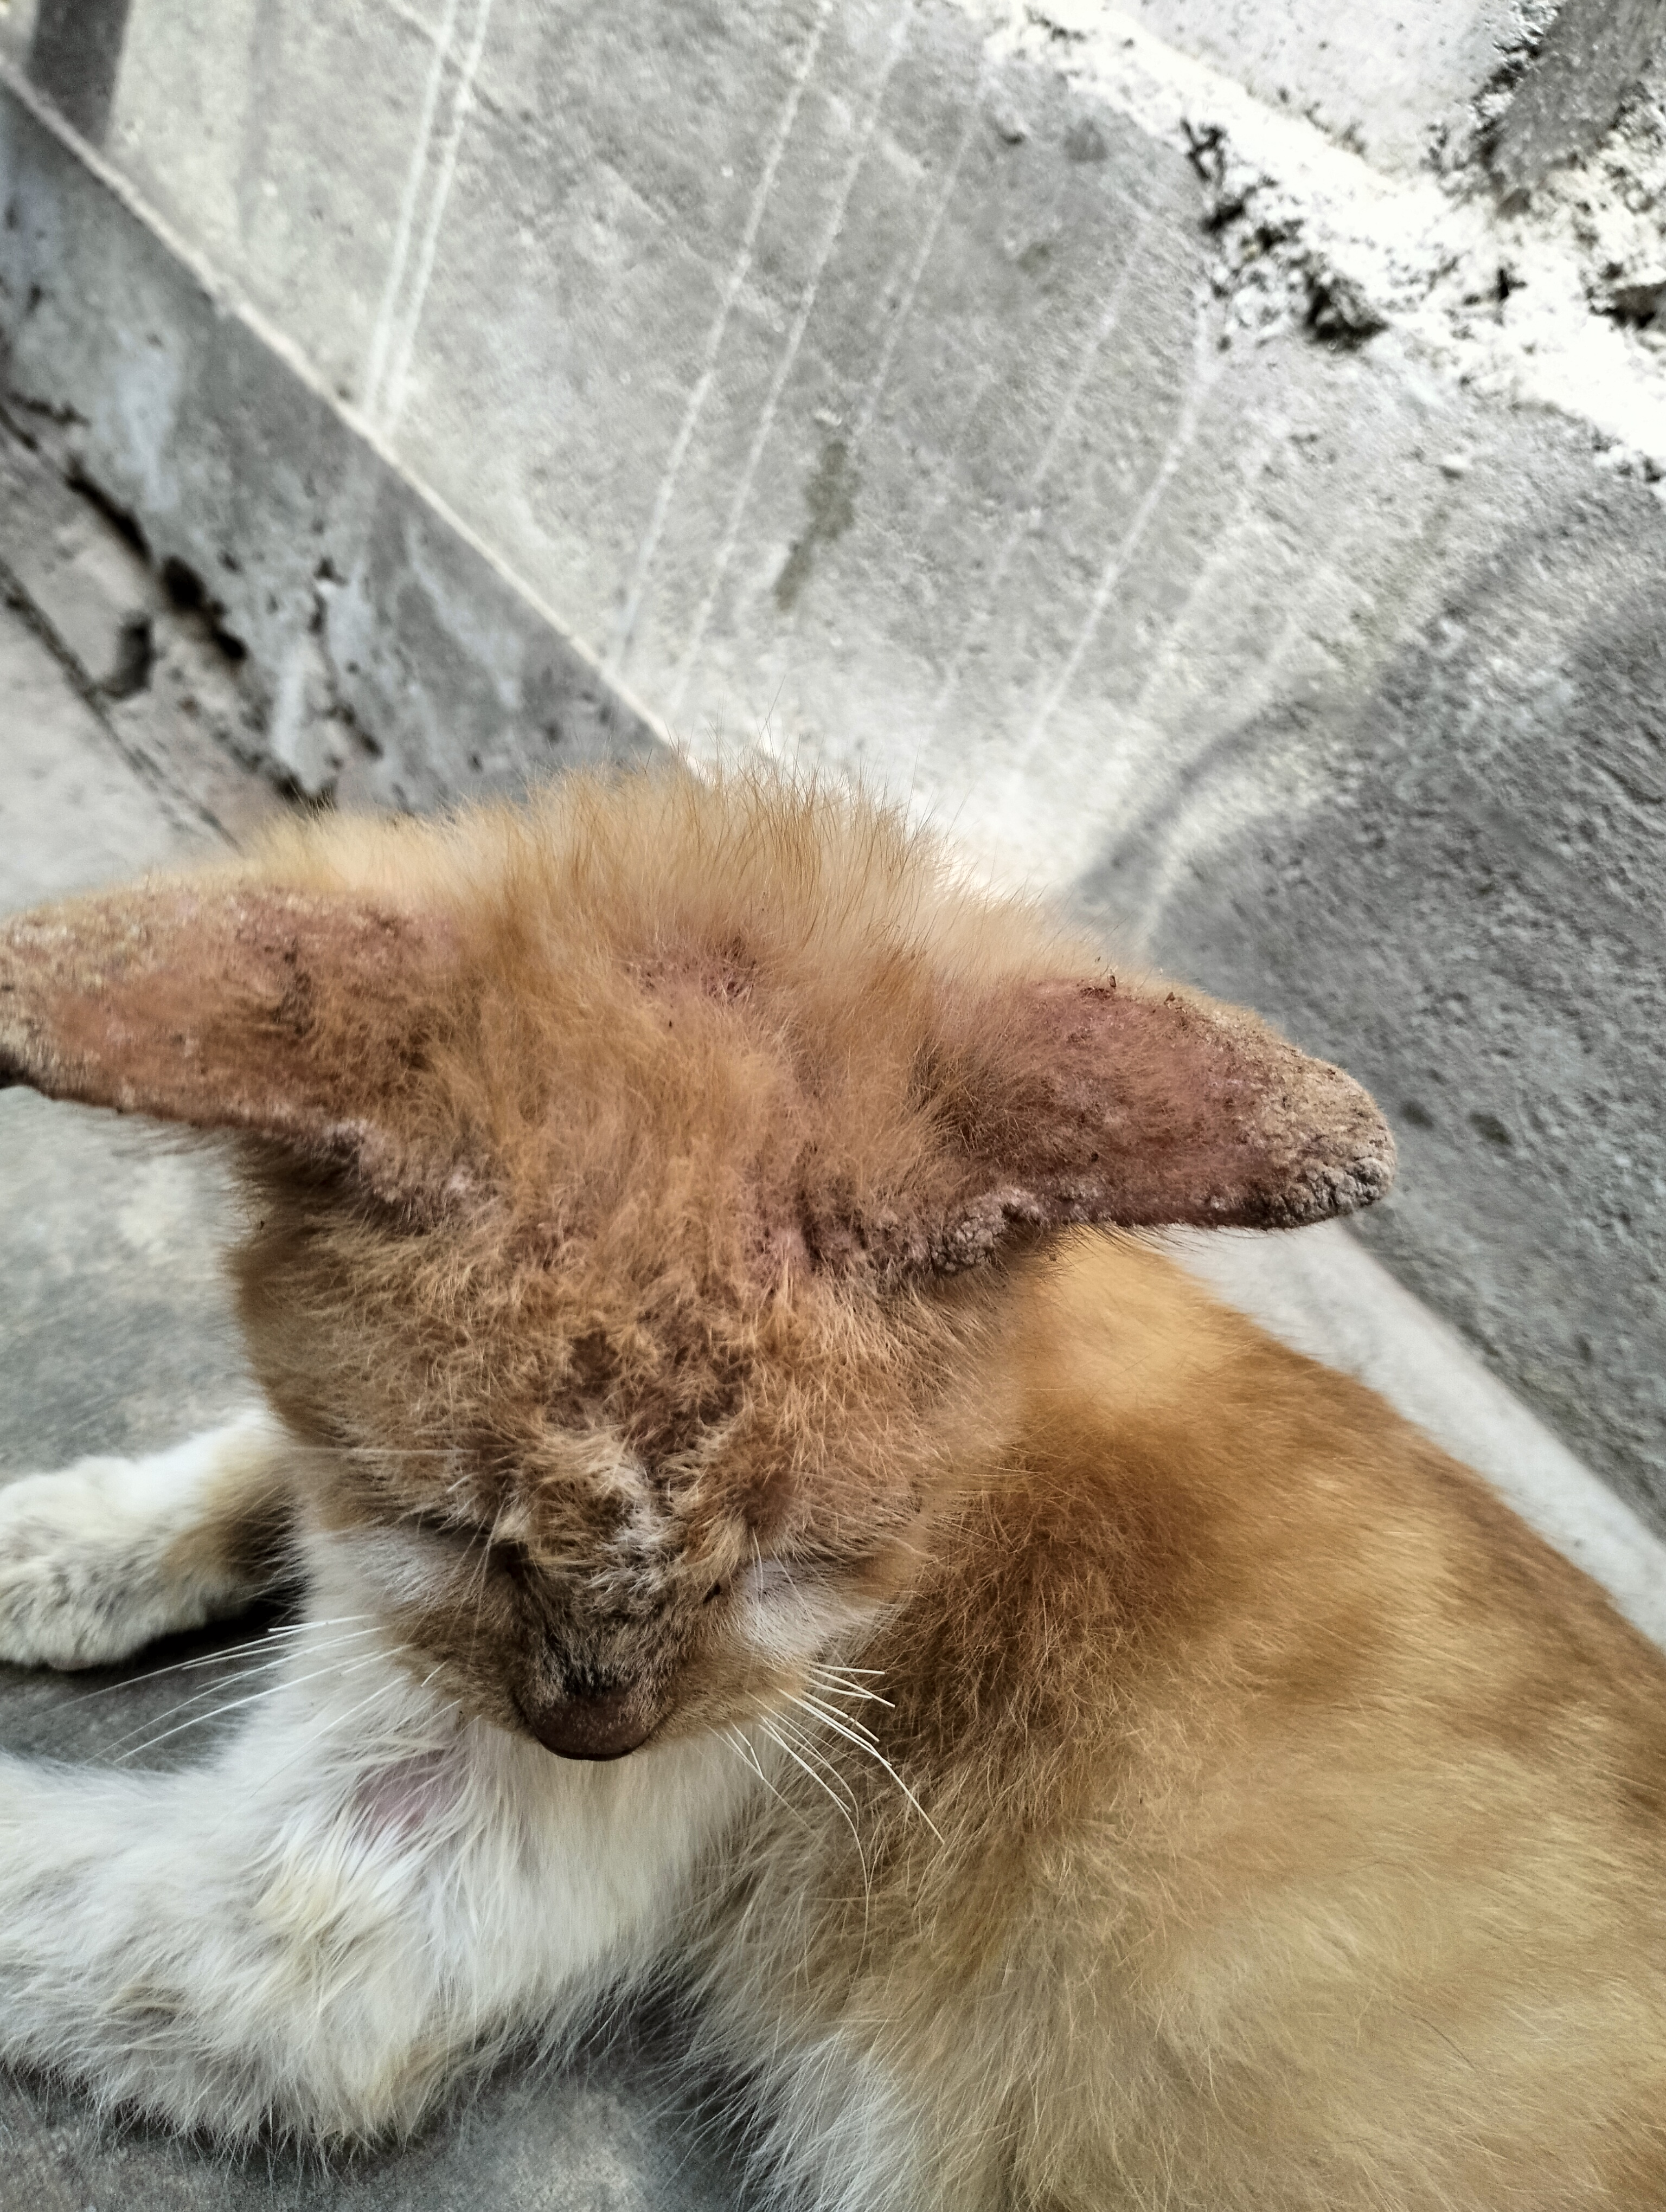cemong: (15, 772, 1434, 1823)
